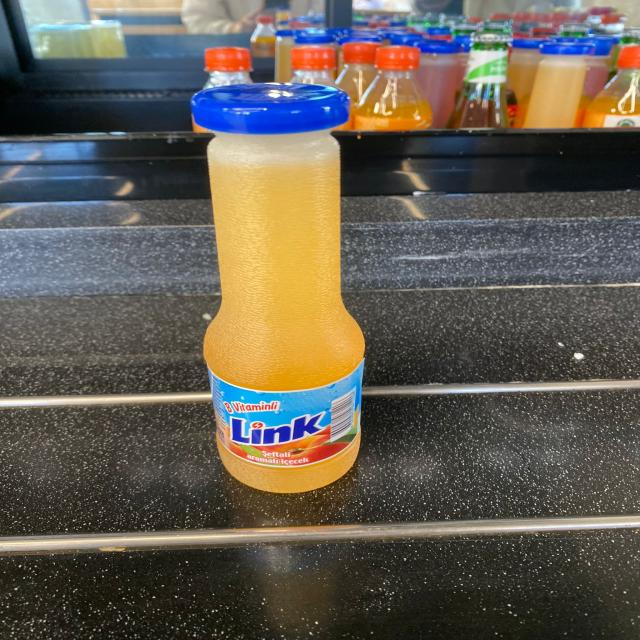yan_yemek: (191, 81, 367, 493)
